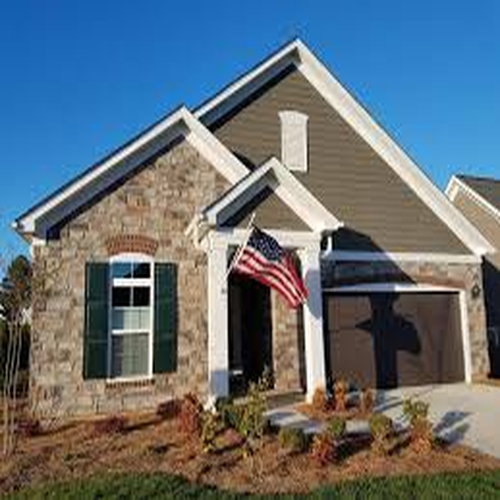Building House: (18, 36, 494, 415)
